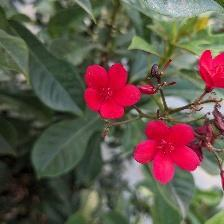jatropha: (82, 62, 141, 125)
